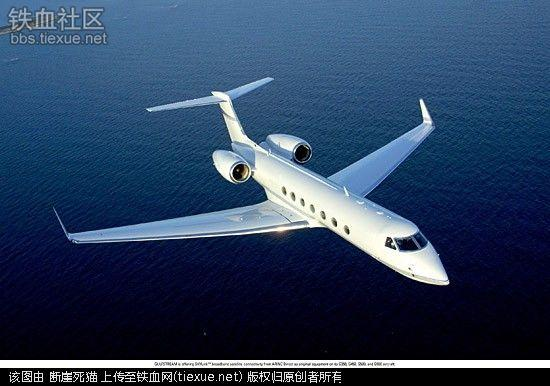airplane: (54, 74, 449, 293)
